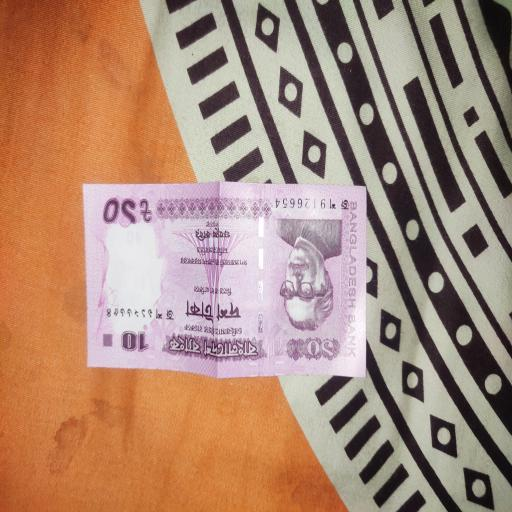10taka: (79, 183, 366, 379)
